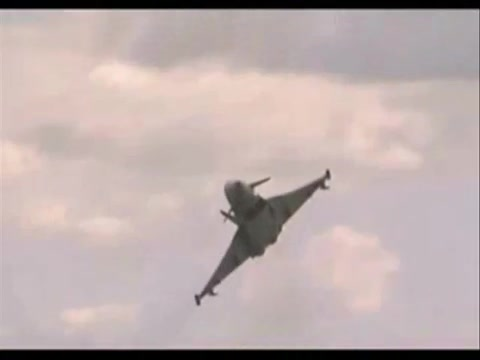aeroplane: (195, 169, 333, 307)
